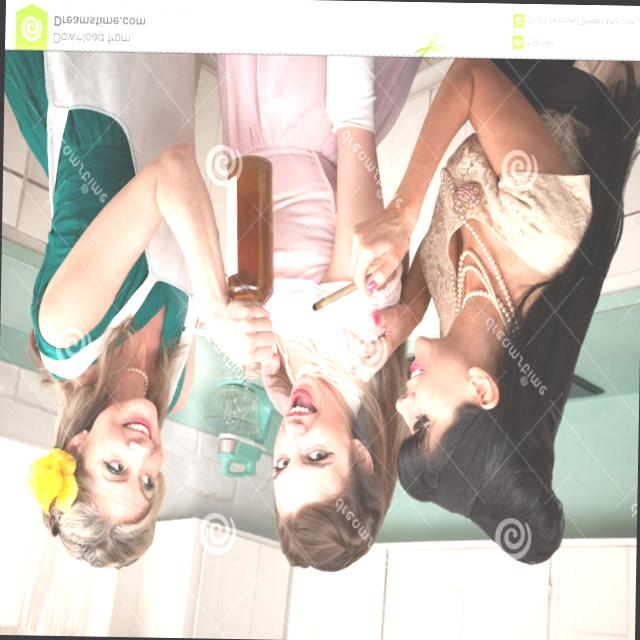smoke: (288, 247, 404, 325)
